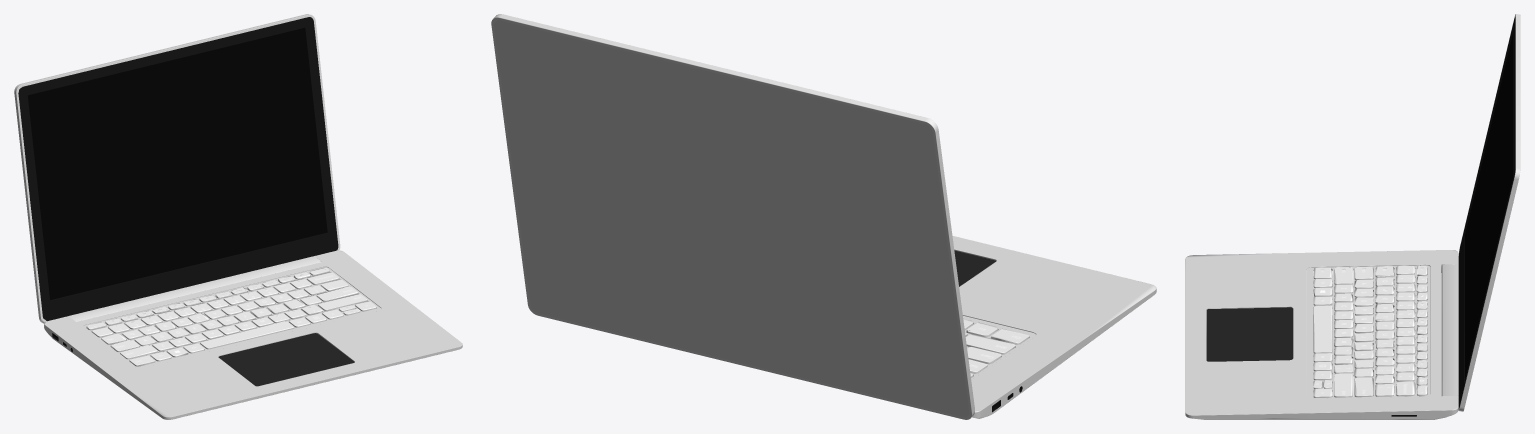
File: modern_slim_laptop.glb
The picture shows the model from 3 angles, left to right: view 1: azimuth 30°, elevation 25°; view 2: azimuth 150°, elevation 25°; view 3: azimuth 270°, elevation 25°; orthographic projection. The views are drawn at different scales.
Parts seen in each view (by area): view 1: Modern Slim Laptop_Base_0, Keyboard_Keyboard_0; view 2: Modern Slim Laptop_Base_0, Keyboard_Keyboard_0; view 3: Modern Slim Laptop_Base_0, Keyboard_Keyboard_0, Modern Slim Laptop_Lights_0.
Boxes of the visible parts, left/top/right/bottom form: Modern Slim Laptop_Base_0: left=14, top=14, right=462, bottom=419; Keyboard_Keyboard_0: left=86, top=267, right=376, bottom=366; Modern Slim Laptop_Base_0: left=491, top=14, right=1156, bottom=419; Keyboard_Keyboard_0: left=963, top=319, right=1029, bottom=377; Modern Slim Laptop_Base_0: left=1185, top=14, right=1520, bottom=419; Keyboard_Keyboard_0: left=1313, top=265, right=1427, bottom=397; Modern Slim Laptop_Lights_0: left=1313, top=269, right=1424, bottom=396.
Bounding box in the file's own units: 0.3395 × 0.2466 × 0.2995.
Materials: 3 (3 with a texture image).
